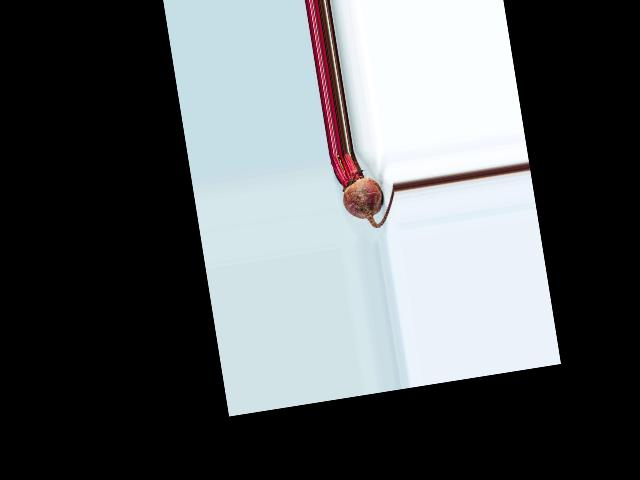beet: (329, 145, 399, 233)
